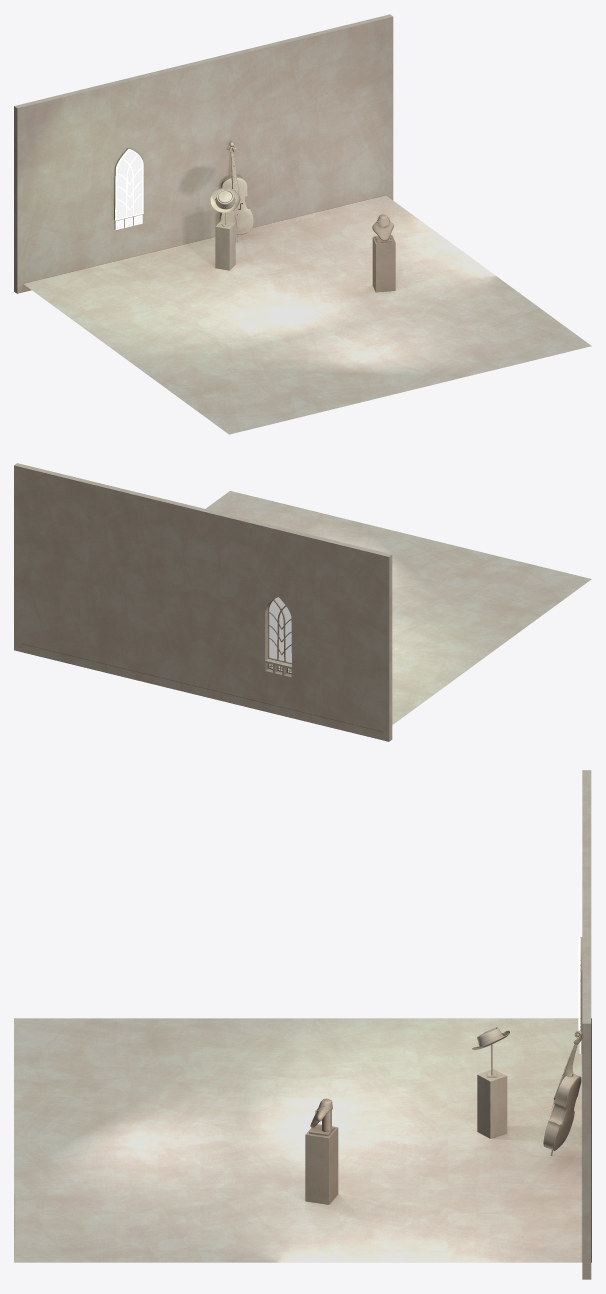
File: menu_v05.glb
3 views of the same model, one above another, from view 1: azimuth 30°, elevation 25°; view 2: azimuth 150°, elevation 25°; view 3: azimuth 270°, elevation 25° (orthographic). The views are drawn at different scales.
Parts seen in each view (by area): view 1: structure, vitrail, collier, chapeau, contrebasse; view 2: structure, vitrailVerre, vitrail, vitrailPlomb; view 3: structure, collier, chapeau, contrebasse.
Boxes of the visible parts, x1,y1,x2,y2 form: structure: [14, 14, 591, 434]; vitrail: [115, 148, 143, 229]; collier: [372, 214, 395, 292]; chapeau: [210, 188, 240, 270]; contrebasse: [219, 142, 253, 242]; structure: [14, 463, 591, 741]; vitrailVerre: [269, 597, 291, 672]; vitrail: [269, 597, 291, 672]; vitrailPlomb: [268, 598, 291, 673]; structure: [14, 770, 591, 1279]; collier: [305, 1098, 338, 1204]; chapeau: [472, 1027, 509, 1138]; contrebasse: [543, 1030, 582, 1155].
Size of the model in its own units: 7.96 by 3.75 by 7.68.
7 materials, 6 textured.
